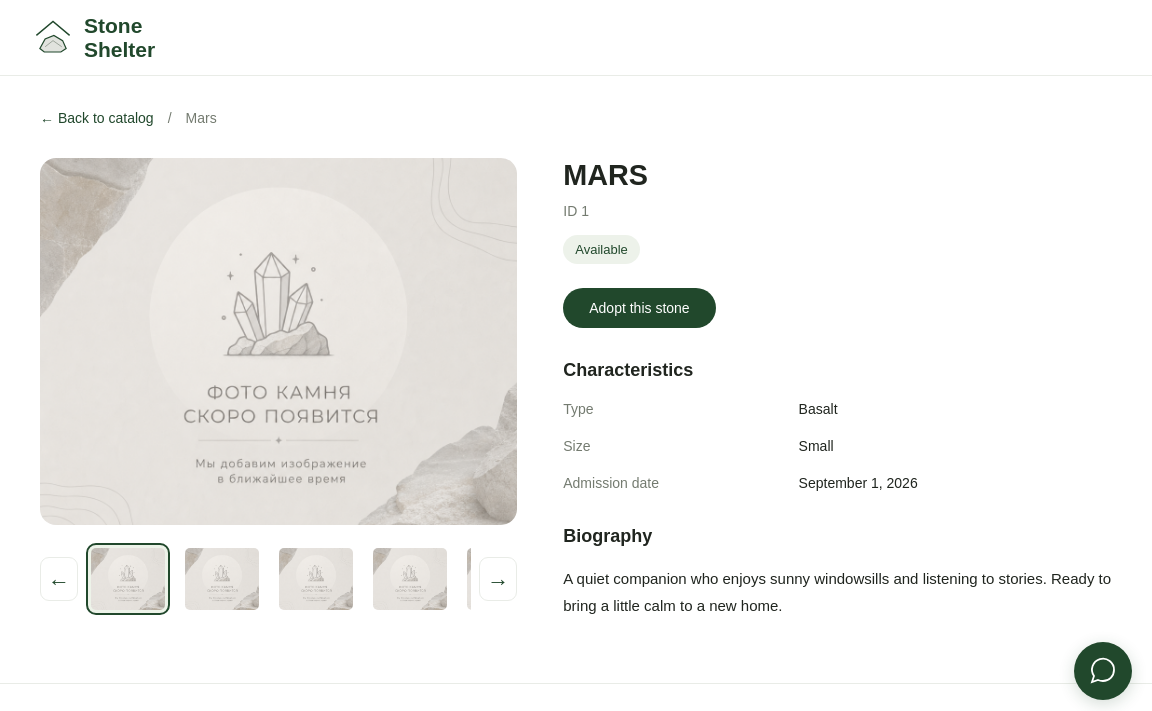
Scenario: retains both arbitrary fields after failure and succeeds on manual retry
The image size is (1152, 711).
Click the button "Adopt this stone" at (640, 308), box [563,288,716,328]
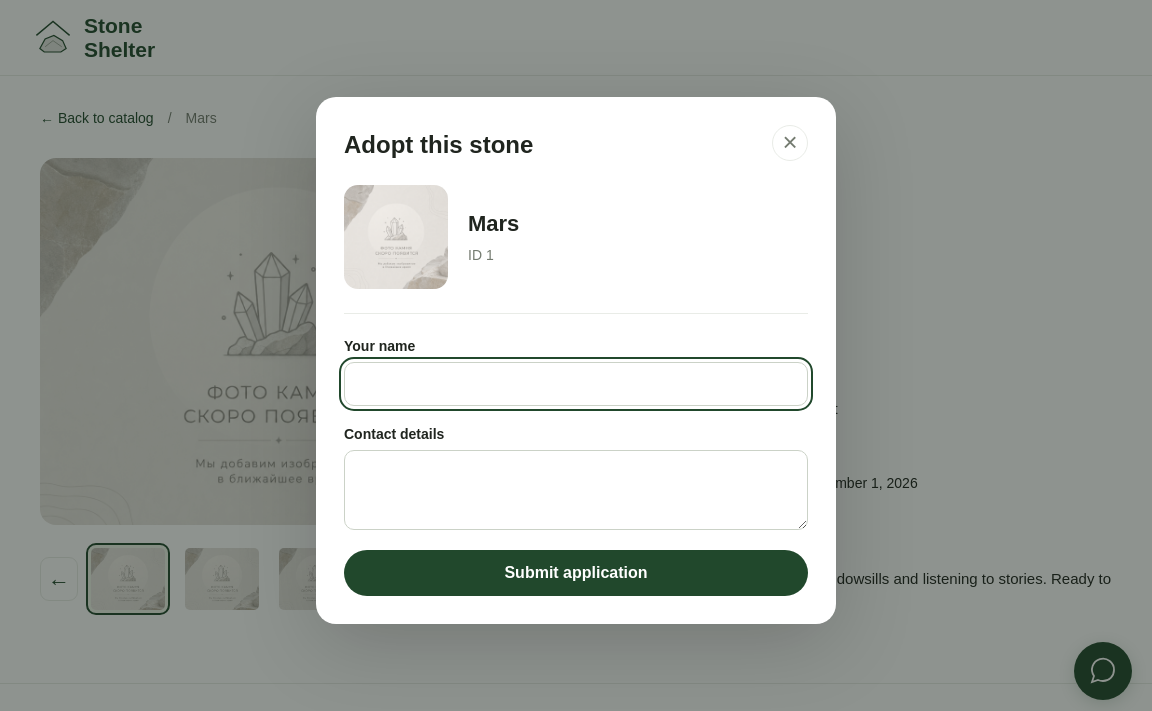
Type "  Visitor 石  " into the field labelled "Your name" at (576, 384), box [344,362,808,406]
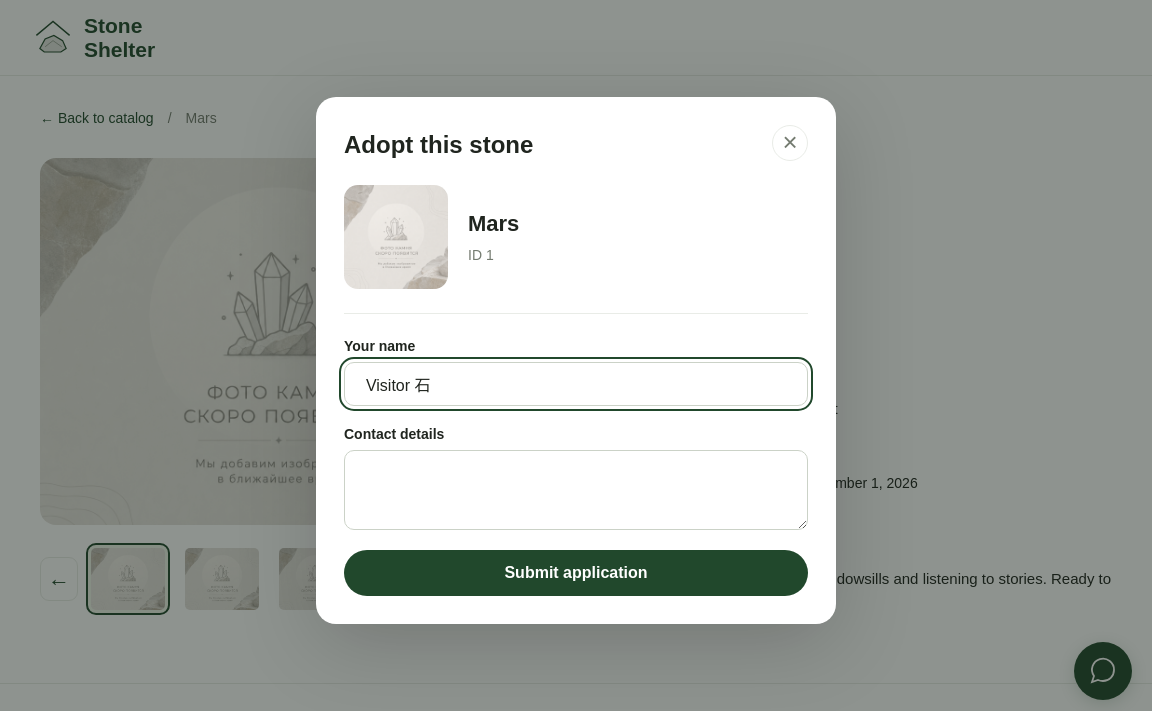
Type "Find me by the window" into the text box labelled "Contact details" at (576, 490), box [344,450,808,530]
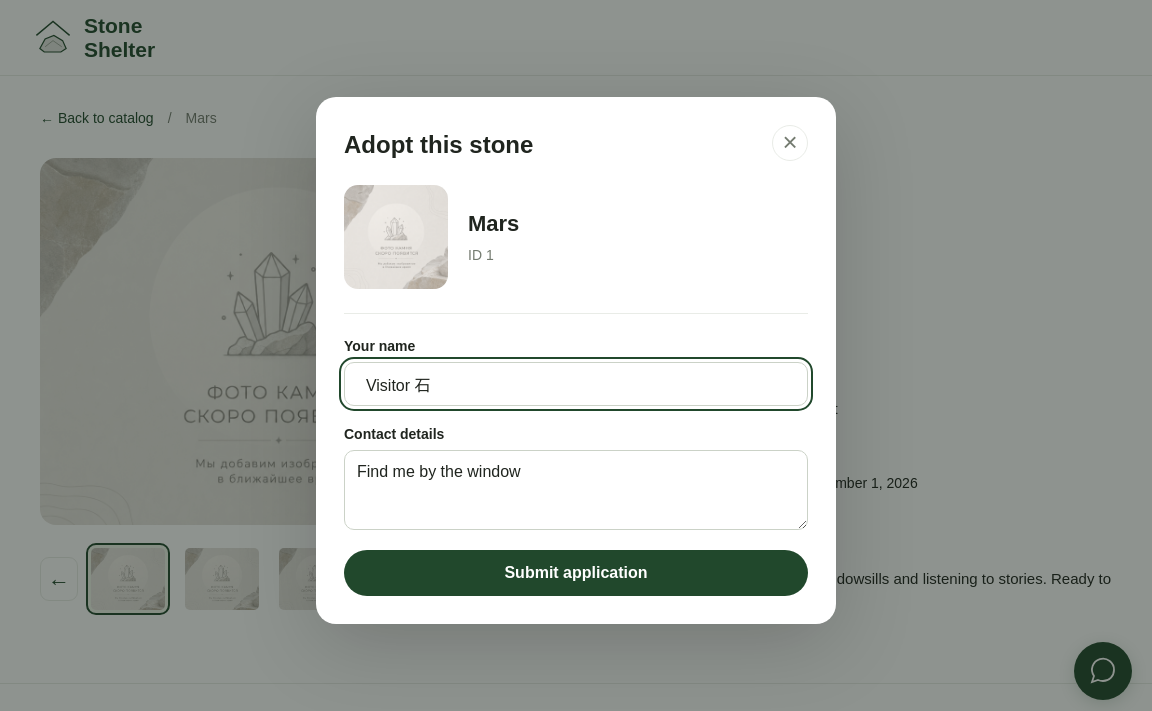
Click the button "Submit application" at (576, 572), box [344,550,808,596]
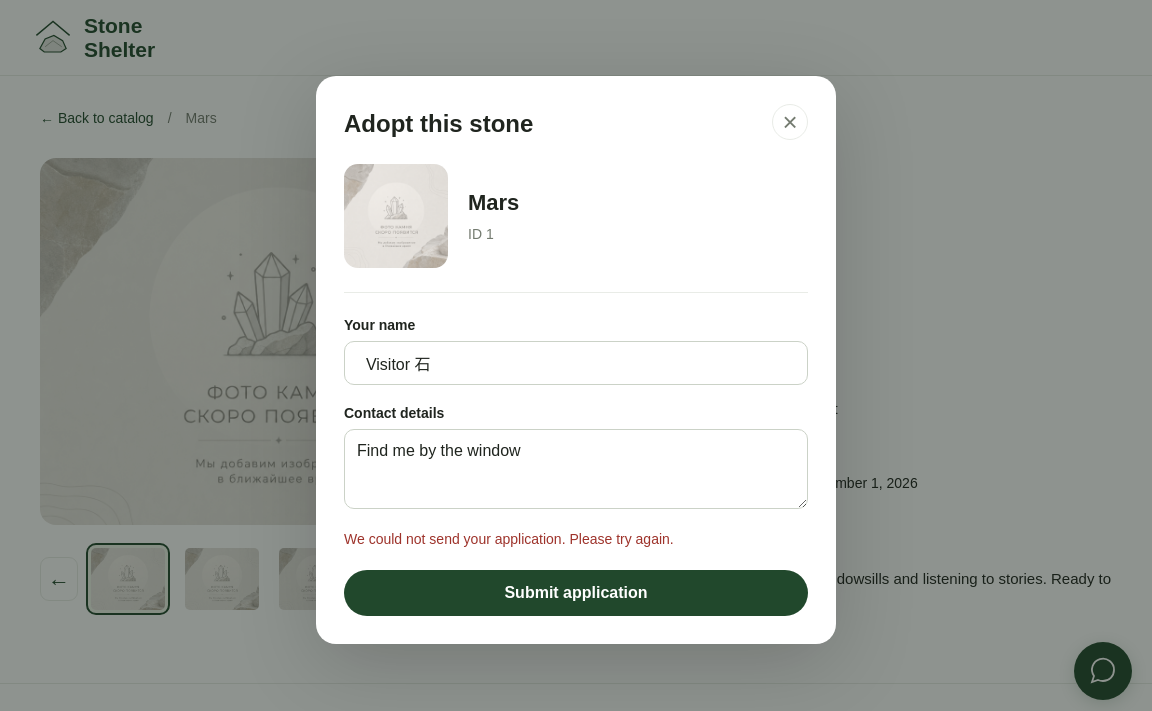
Expected: the text "Application submitted. Please wait for us to contact you." is not shown
Expected: the message shows "Please try again", [344,531,674,547]
Click the button "Submit application" at (576, 593), box [344,570,808,616]
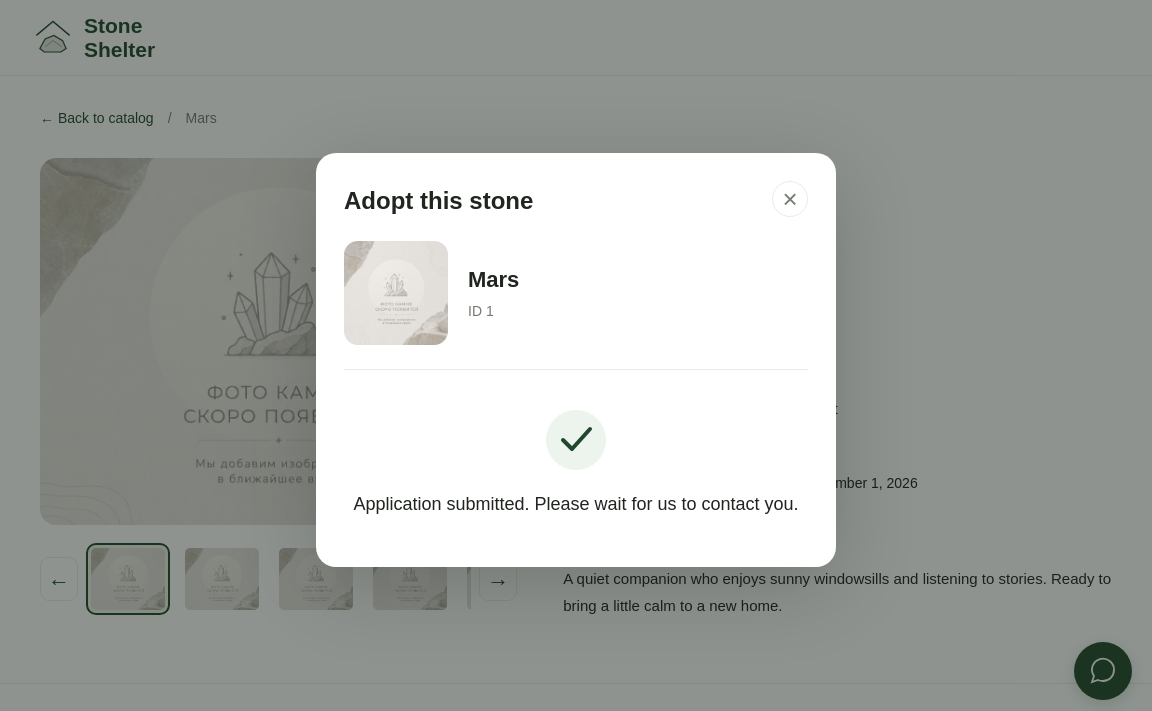
Expected: the message reads "Application submitted. Please wait for us to contact you.", [353,494,799,514]
